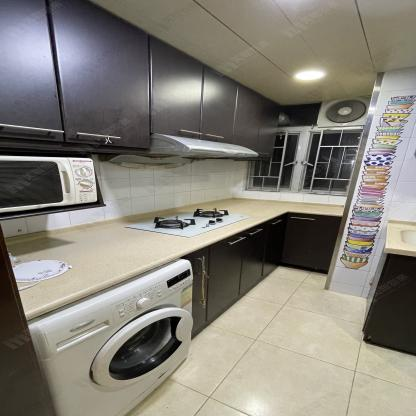Cupboard: (186, 212, 343, 341)
Exhaust Fan: (321, 101, 366, 126)
Exhaust Hood: (109, 134, 263, 166)
Microwave: (0, 154, 100, 213)
Sink: (398, 229, 416, 246)
Stove: (122, 207, 251, 236)
Washing Machine: (25, 258, 191, 416)
